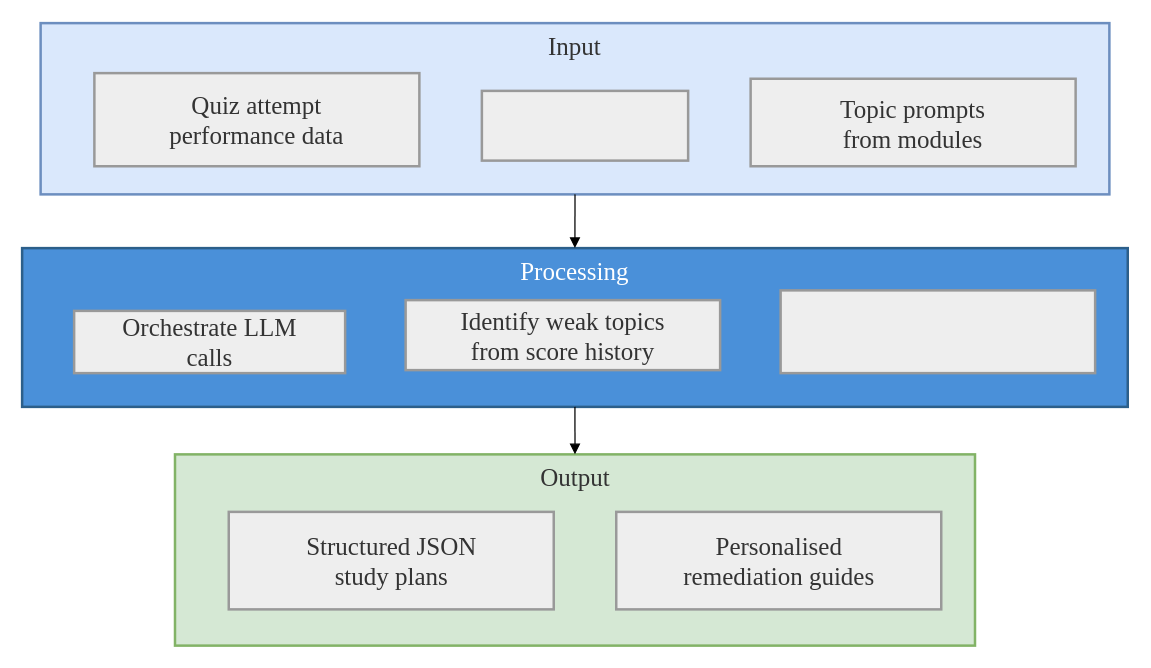
This 1151x668 diagram has some shape labels left out. Each missing label, with the centre of its shape:
Assemble targeted remediation materials: the point at 937,331
Raw PDF text: the point at 584,125
